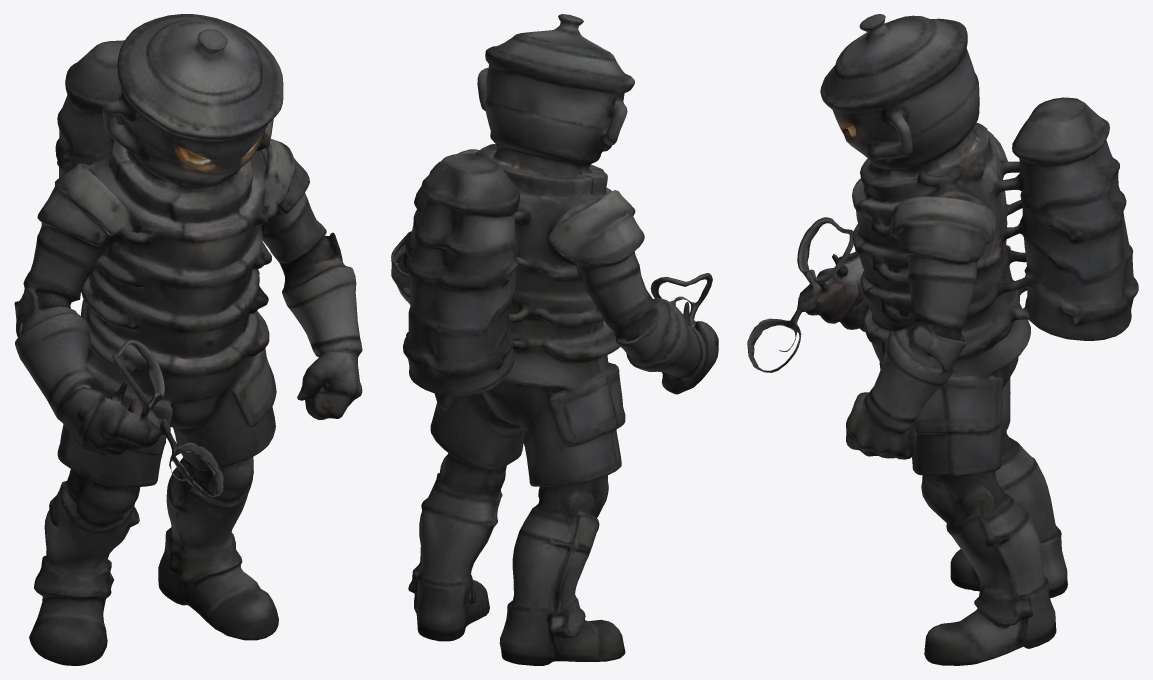
Rendered from agatha_golem.glb.
The picture shows the model from 3 angles, left to right: view 1: azimuth 30°, elevation 25°; view 2: azimuth 150°, elevation 25°; view 3: azimuth 270°, elevation 25°; orthographic projection. The views are drawn at different scales.
Bounding box in the file's own units: 0.463 × 0.886 × 0.5193.
1 material, 1 textured.
